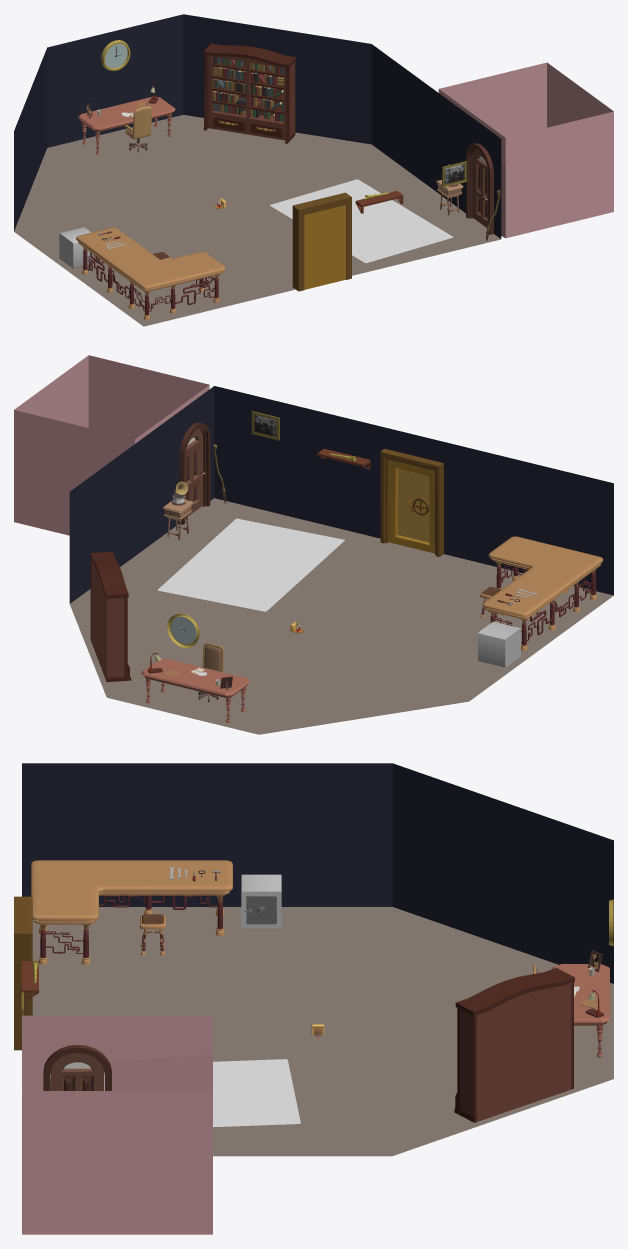
The model's file is BlendedJoined.fbx.
3 renders of one model, top to bottom at view 1: azimuth 30°, elevation 25°; view 2: azimuth 150°, elevation 25°; view 3: azimuth 270°, elevation 25°, orthographic. The views are drawn at different scales.
Visible parts, largest first — view 1: Room, Bookshelf_Body, WorkBench, Rug_01, Door_Main_Body, Door_Main_Frame, Table_Research, Door_Bath_Body, Door_Bath_Frame, Safe_Body, Chair, Clock_Big_Base (+1 smaller); view 2: Room, Rug_01, WorkBench, Bookshelf_Body, Door_Main_Body, Table_Research, Door_Main_Frame, Safe_Body, Door_Bath_Body, Door_Bath_Frame, Clock_Big_Base, Frame_Wall (+2 smaller); view 3: Room, Bookshelf_Body, WorkBench, Rug_01, Table_Research, Door_Main_Frame, Door_Bath_Body, Safe_Body, Door_Bath_Frame, Safe_Door, Stool.
Part boxes in pixels (x1=…): Room: x1=14, y1=14, x2=613, y2=326; Bookshelf_Body: x1=203, y1=43, x2=295, y2=143; WorkBench: x1=76, y1=227, x2=225, y2=319; Rug_01: x1=270, y1=179, x2=453, y2=263; Door_Main_Body: x1=304, y1=205, x2=345, y2=289; Door_Main_Frame: x1=292, y1=192, x2=351, y2=291; Table_Research: x1=78, y1=96, x2=175, y2=154; Door_Bath_Body: x1=472, y1=149, x2=488, y2=227; Door_Bath_Frame: x1=466, y1=143, x2=493, y2=234; Safe_Body: x1=59, y1=227, x2=97, y2=268; Chair: x1=124, y1=106, x2=151, y2=152; Clock_Big_Base: x1=101, y1=40, x2=130, y2=70; Room: x1=14, y1=355, x2=613, y2=734; Rug_01: x1=158, y1=518, x2=344, y2=611; WorkBench: x1=482, y1=536, x2=603, y2=650; Bookshelf_Body: x1=90, y1=551, x2=131, y2=682; Door_Main_Body: x1=389, y1=459, x2=434, y2=553; Table_Research: x1=141, y1=658, x2=250, y2=722; Door_Main_Frame: x1=380, y1=448, x2=443, y2=556; Safe_Body: x1=478, y1=621, x2=520, y2=667; Door_Bath_Body: x1=185, y1=429, x2=203, y2=518; Door_Bath_Frame: x1=179, y1=422, x2=210, y2=524; Clock_Big_Base: x1=167, y1=613, x2=199, y2=647; Frame_Wall: x1=251, y1=411, x2=279, y2=440; Room: x1=22, y1=763, x2=613, y2=1234; Bookshelf_Body: x1=454, y1=968, x2=574, y2=1122; WorkBench: x1=31, y1=860, x2=232, y2=964; Rug_01: x1=50, y1=1059, x2=300, y2=1127; Table_Research: x1=552, y1=964, x2=609, y2=1057; Door_Main_Frame: x1=14, y1=896, x2=32, y2=1050; Door_Bath_Body: x1=51, y1=1053, x2=103, y2=1090; Safe_Body: x1=241, y1=874, x2=281, y2=928; Door_Bath_Frame: x1=43, y1=1044, x2=111, y2=1090; Safe_Door: x1=246, y1=896, x2=276, y2=924; Stool: x1=140, y1=914, x2=165, y2=955.
Bounding box in the file's own units: 28308 × 6173 × 21890.
